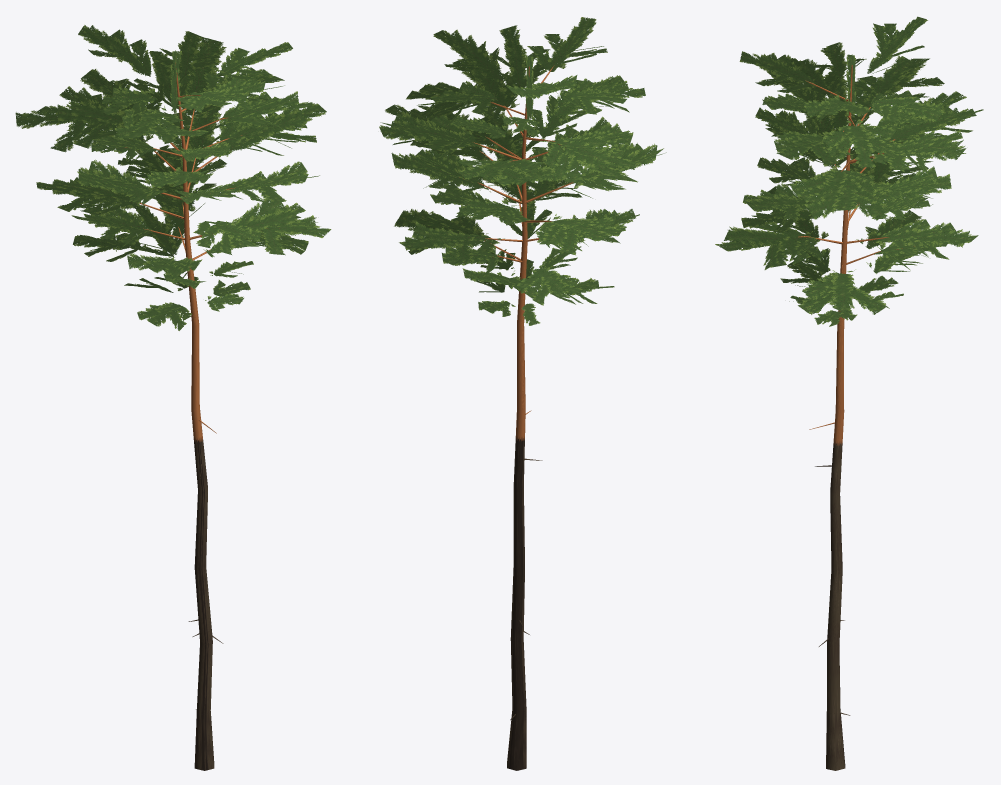
The model's file is near.glb.
3 views of the same model, side by side, from view 1: azimuth 30°, elevation 25°; view 2: azimuth 150°, elevation 25°; view 3: azimuth 270°, elevation 25° (orthographic). The views are drawn at different scales.
Visible parts, largest first — view 1: pine_04; view 2: pine_04; view 3: pine_04.
Boxes of the visible parts, x1,y1,x2,y2 form: pine_04: (15,25,331,770); pine_04: (379,17,666,770); pine_04: (715,16,983,770).
Bounding box in the file's own units: 8.81 × 22.04 × 7.83.
Materials: 2 (2 with a texture image).
